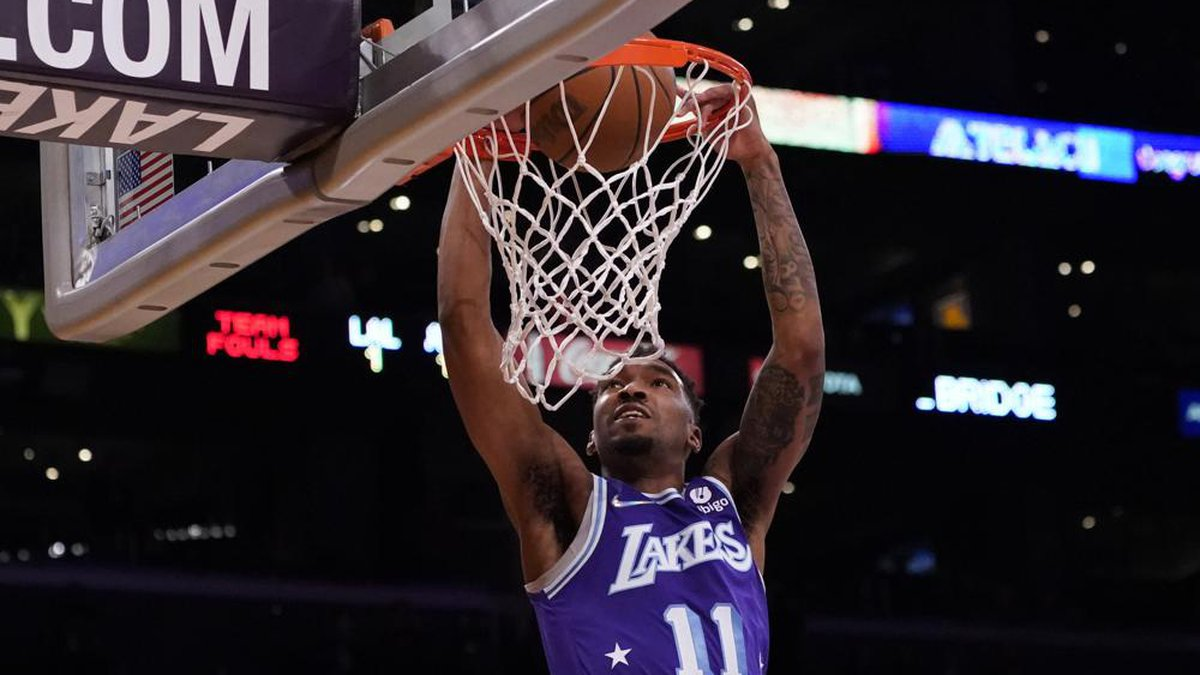MadeBasket: (453, 39, 751, 409)
